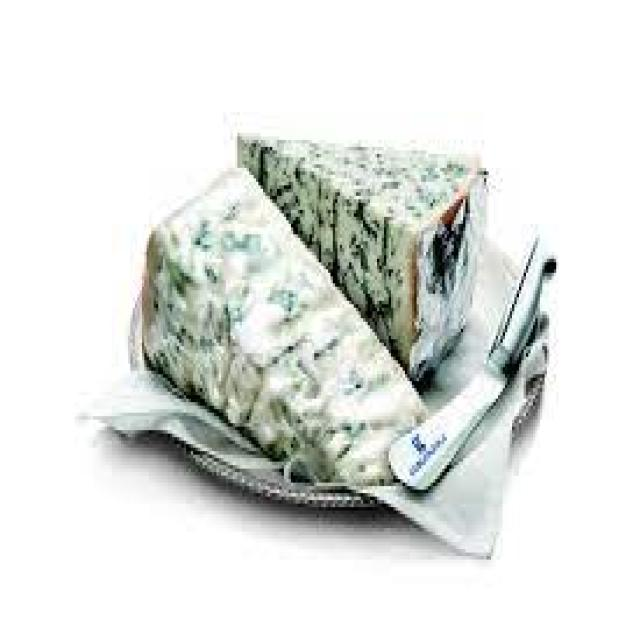Cheese: (142, 153, 418, 476), (226, 131, 499, 369)
